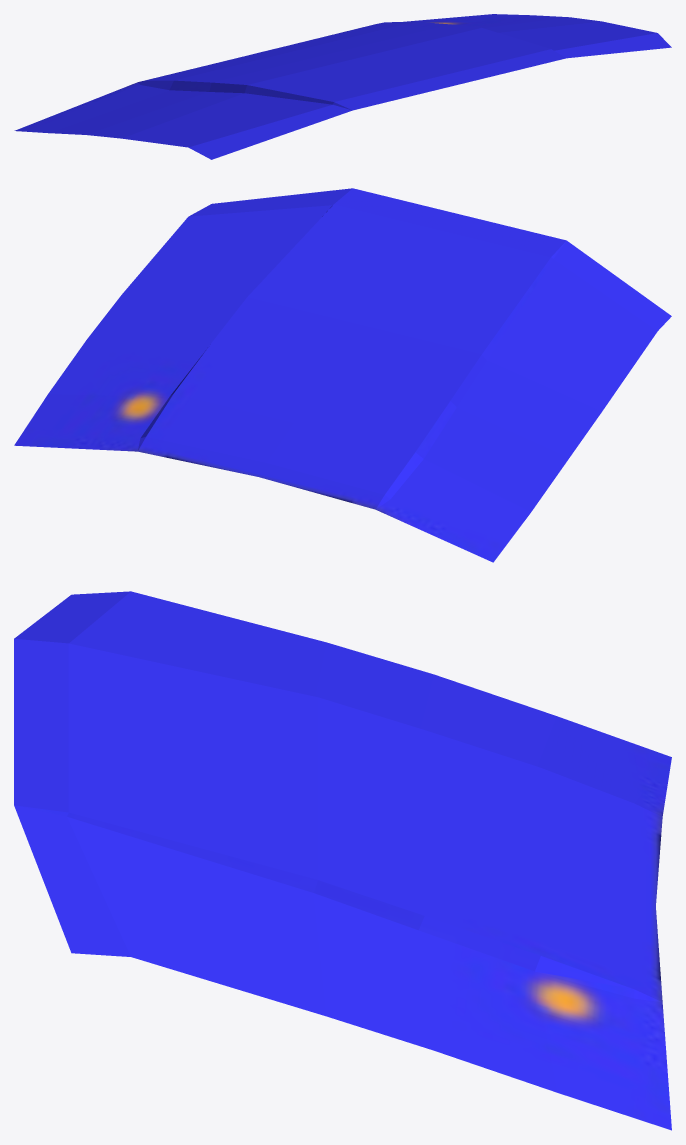
File: hood6.obj
3 renders of one model, top to bottom at view 1: azimuth 30°, elevation 25°; view 2: azimuth 150°, elevation 25°; view 3: azimuth 270°, elevation 25°, orthographic. The views are drawn at different scales.
Parts seen in each view (by area): view 1: hood; view 2: hood; view 3: hood.
Part boxes in pixels (box(x1,y1,x2,y2)): hood: box(14, 14, 671, 159); hood: box(14, 188, 671, 562); hood: box(14, 591, 671, 1130).
Size of the model in its own units: 1.09 by 0.3004 by 0.8073.
